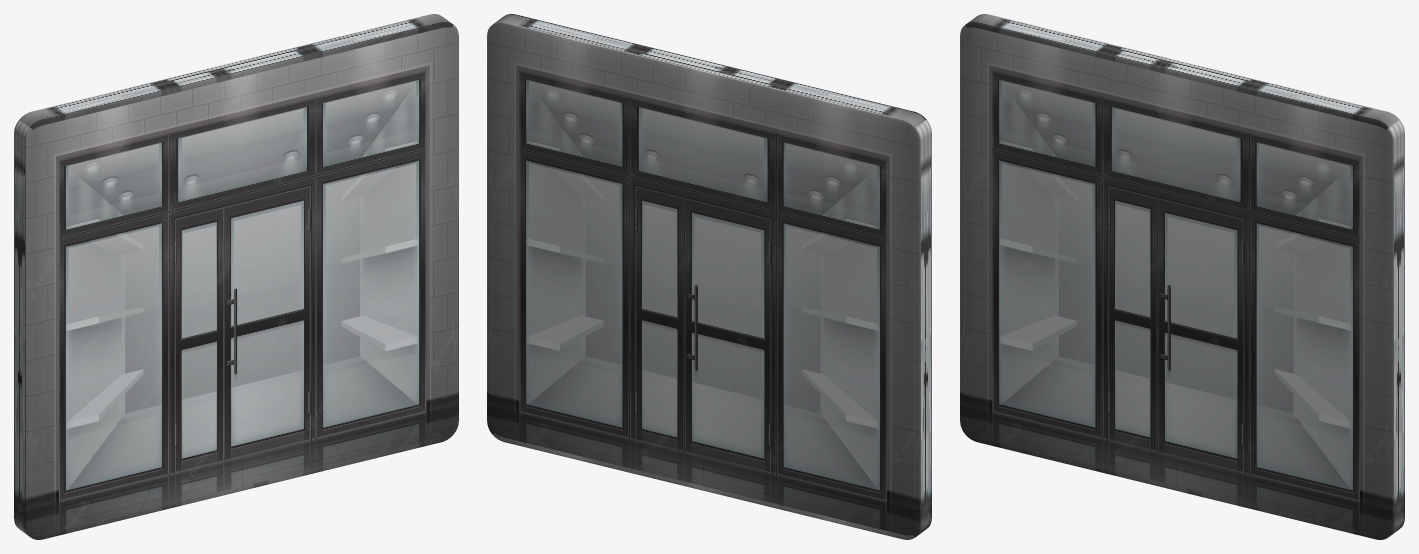
File: exit_door.glb
3 renders of one model, left to right at view 1: azimuth 30°, elevation 25°; view 2: azimuth 150°, elevation 25°; view 3: azimuth 330°, elevation 25°, orthographic.
Parts seen in each view (by area): view 1: Box; view 2: Box; view 3: Box.
Boxes of the visible parts, x1=… form: Box: x1=14, y1=14, x2=458, y2=539; Box: x1=487, y1=14, x2=931, y2=539; Box: x1=960, y1=14, x2=1404, y2=539.
Size of the model in its own units: 0.6 by 0.555 by 0.03.
1 material, 1 textured.
